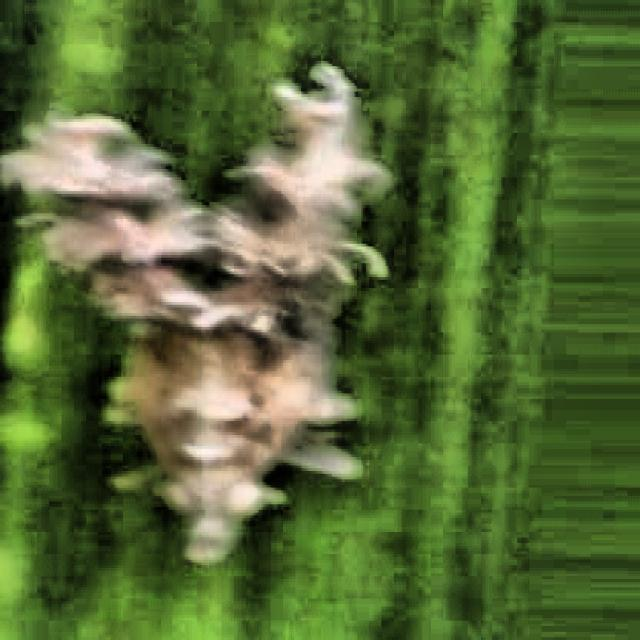Pyrilla-perpusilla: (10, 65, 394, 574)
